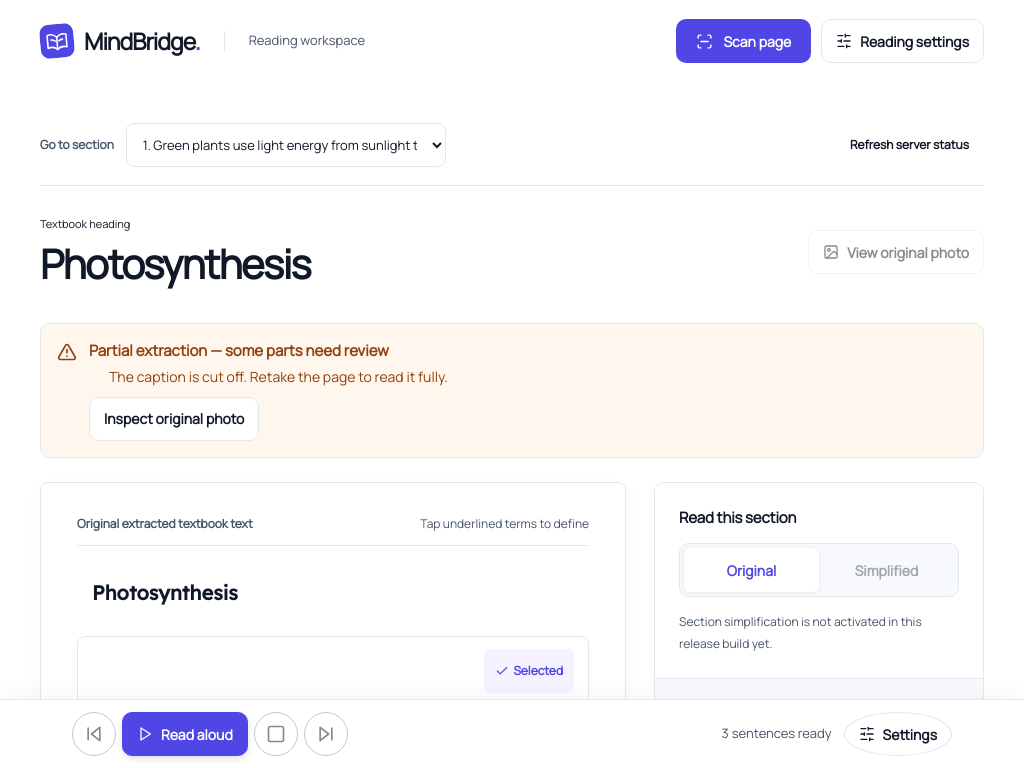
Test: Accessible Reader, MissingPage, and ReadingSettings › opens ReadingSettingsDialog, updates CSS variables immediately, and resets on request
Later steps or results of the test are not shown.
What coordinates should you click on to do the following:
click the button "Reading settings"
I would click on:
 (903, 41)
Its box is [821,19,984,63].
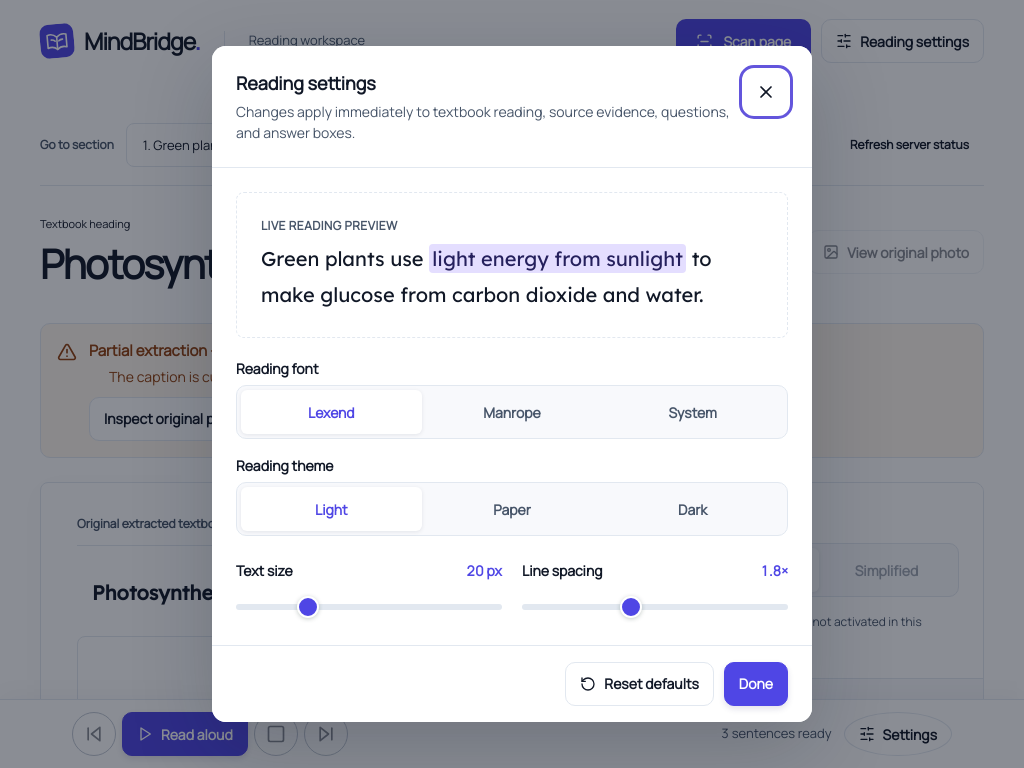
Now the dialog "Reading settings" is shown, box [212,46,812,722]
What coordinates should you click on to do the following:
click the radio button labelled "Dark"
I would click on:
 (693, 509)
Its box is [602,487,783,531].
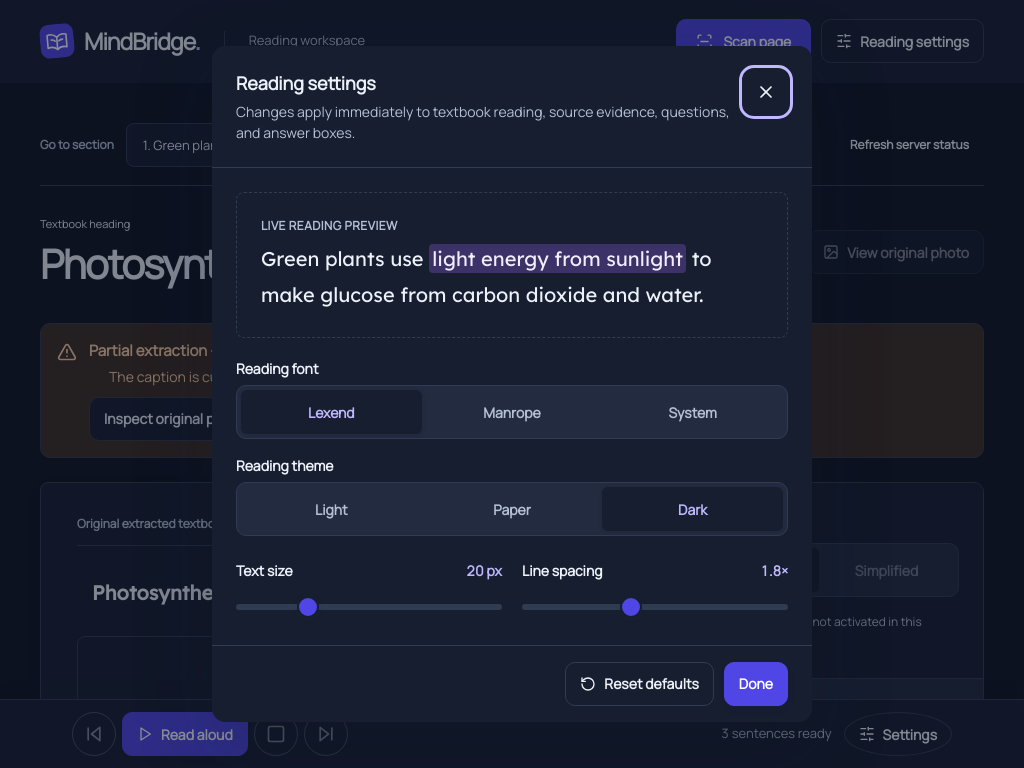
Now the radio button labelled "Dark" is checked, box [602,487,783,531]
